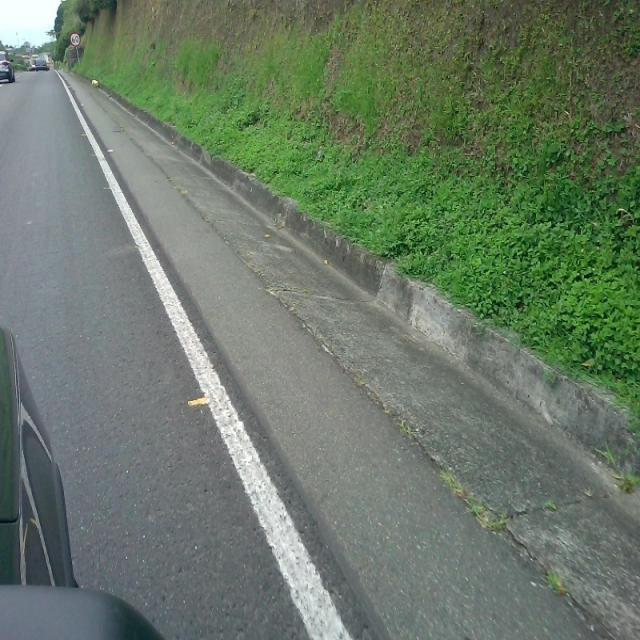DITCH: (51, 67, 638, 638)
